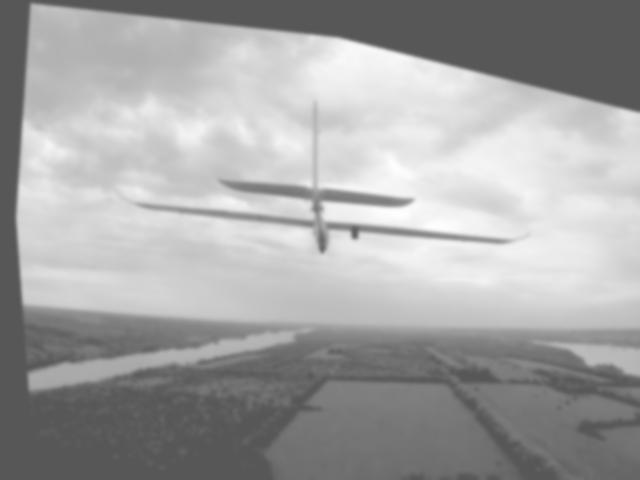hedef: (93, 46, 564, 312)
